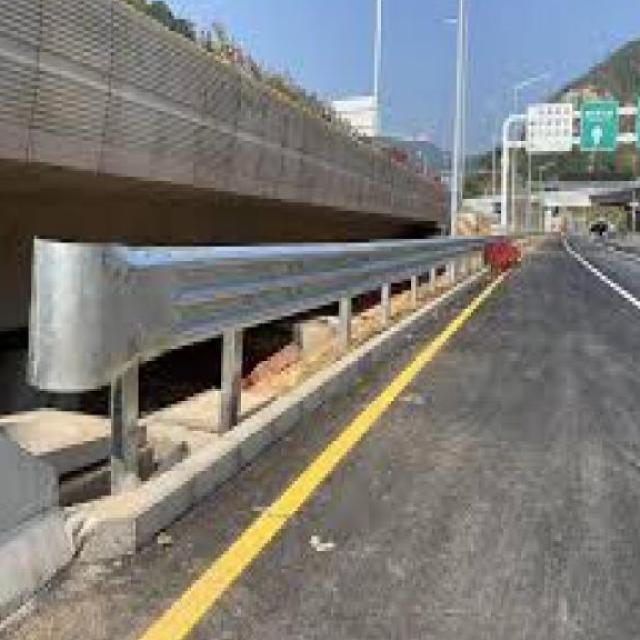Guard rail: (29, 239, 486, 390)
